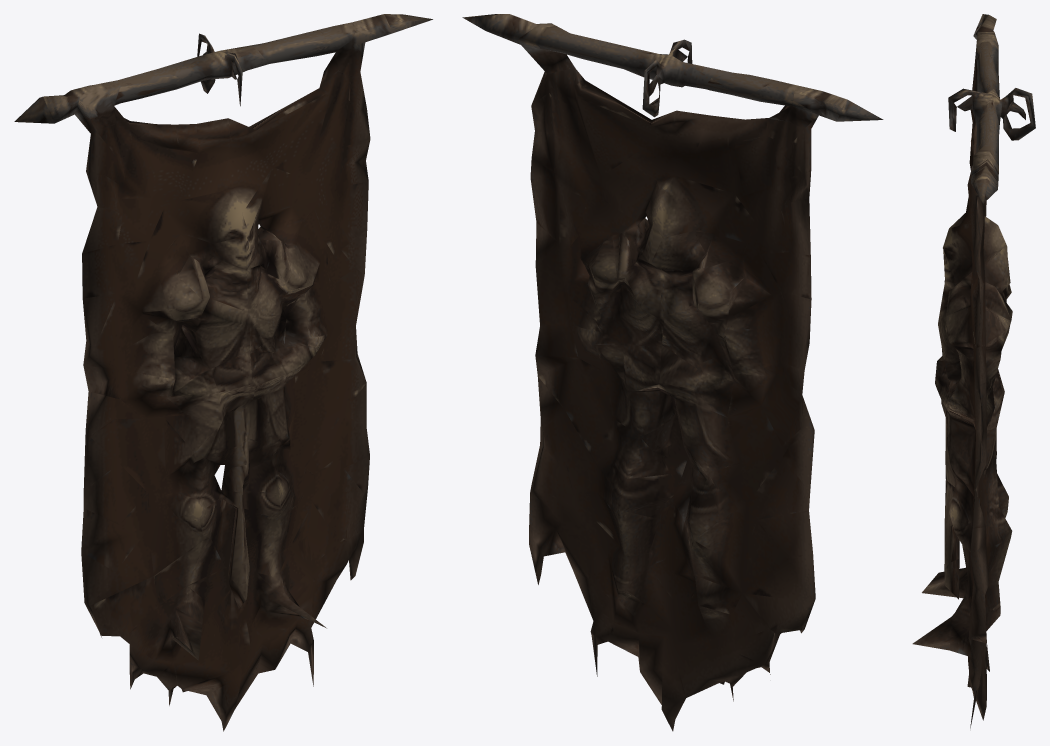
File: boss_banner_large.glb
The picture shows the model from 3 angles, left to right: view 1: azimuth 30°, elevation 25°; view 2: azimuth 150°, elevation 25°; view 3: azimuth 270°, elevation 25°; orthographic projection. The views are drawn at different scales.
Bounding box in the file's own units: 1.26 × 1.97 × 0.3488.
Materials: 1 (1 with a texture image).
